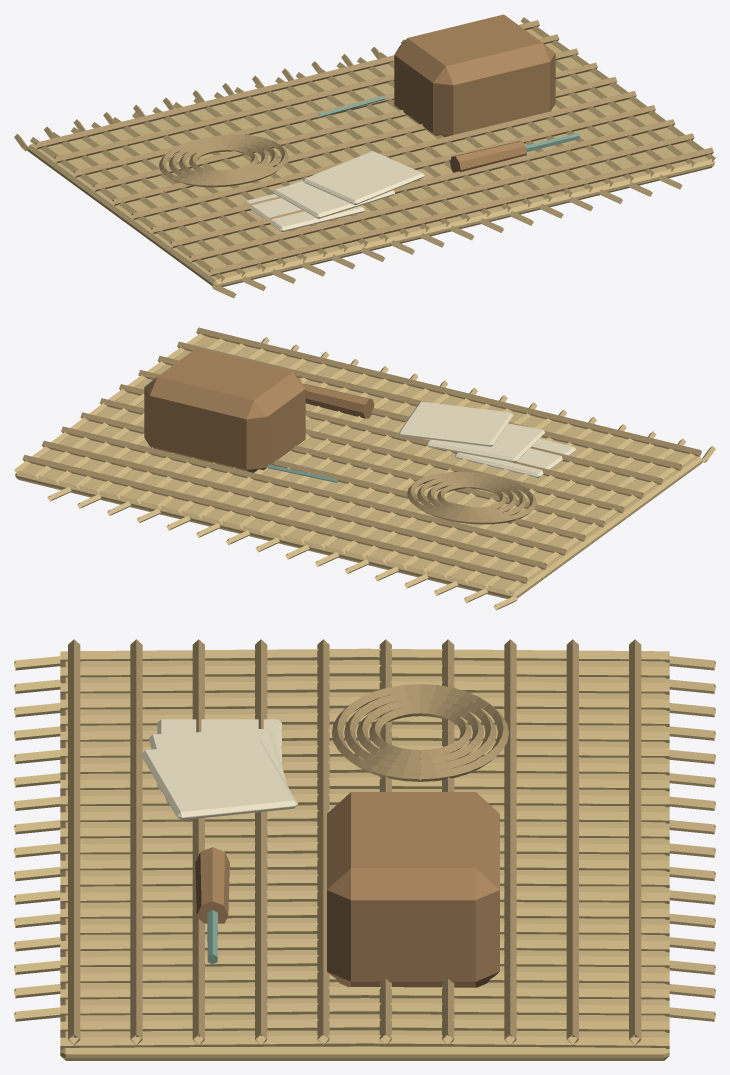
3 renders of one model, top to bottom at view 1: azimuth 30°, elevation 25°; view 2: azimuth 150°, elevation 25°; view 3: azimuth 270°, elevation 25°, orthographic. The views are drawn at different scales.
Visible parts, largest first — view 1: BA-0068 batched; view 2: BA-0068 batched; view 3: BA-0068 batched.
Part boxes in pixels (x1,y1,x2,y2): BA-0068 batched: (14, 14, 715, 298); BA-0068 batched: (14, 327, 715, 610); BA-0068 batched: (14, 639, 715, 1060).
Size of the model in its own units: 1.36 by 0.206 by 1.01.
